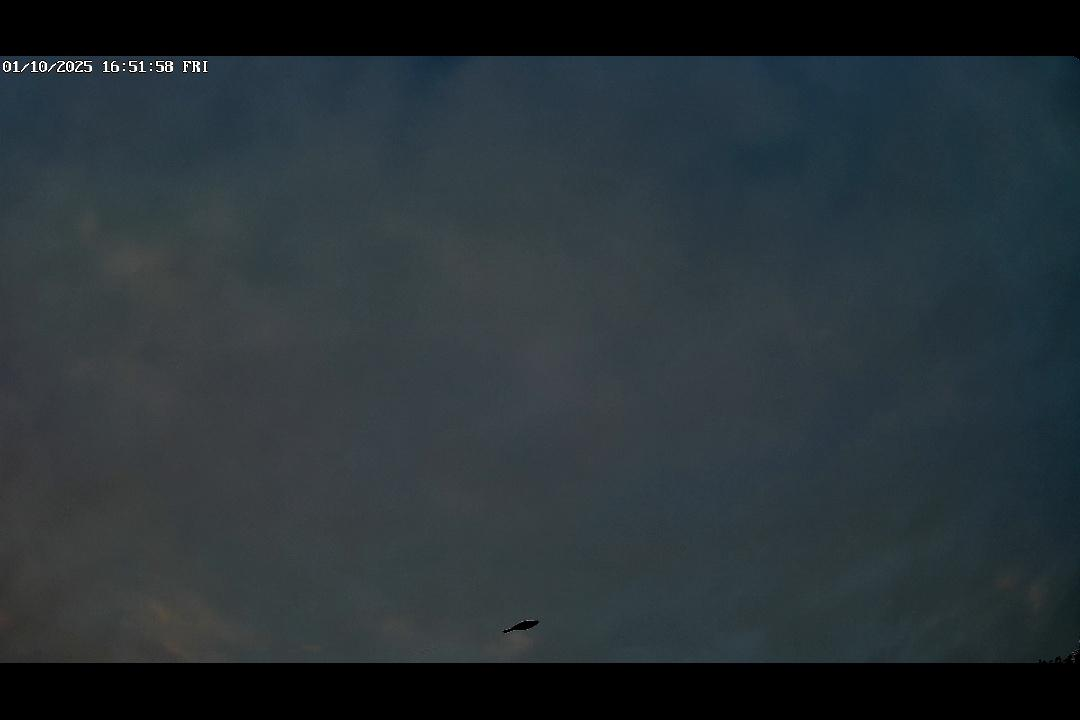WildLife: (485, 614, 560, 638)
